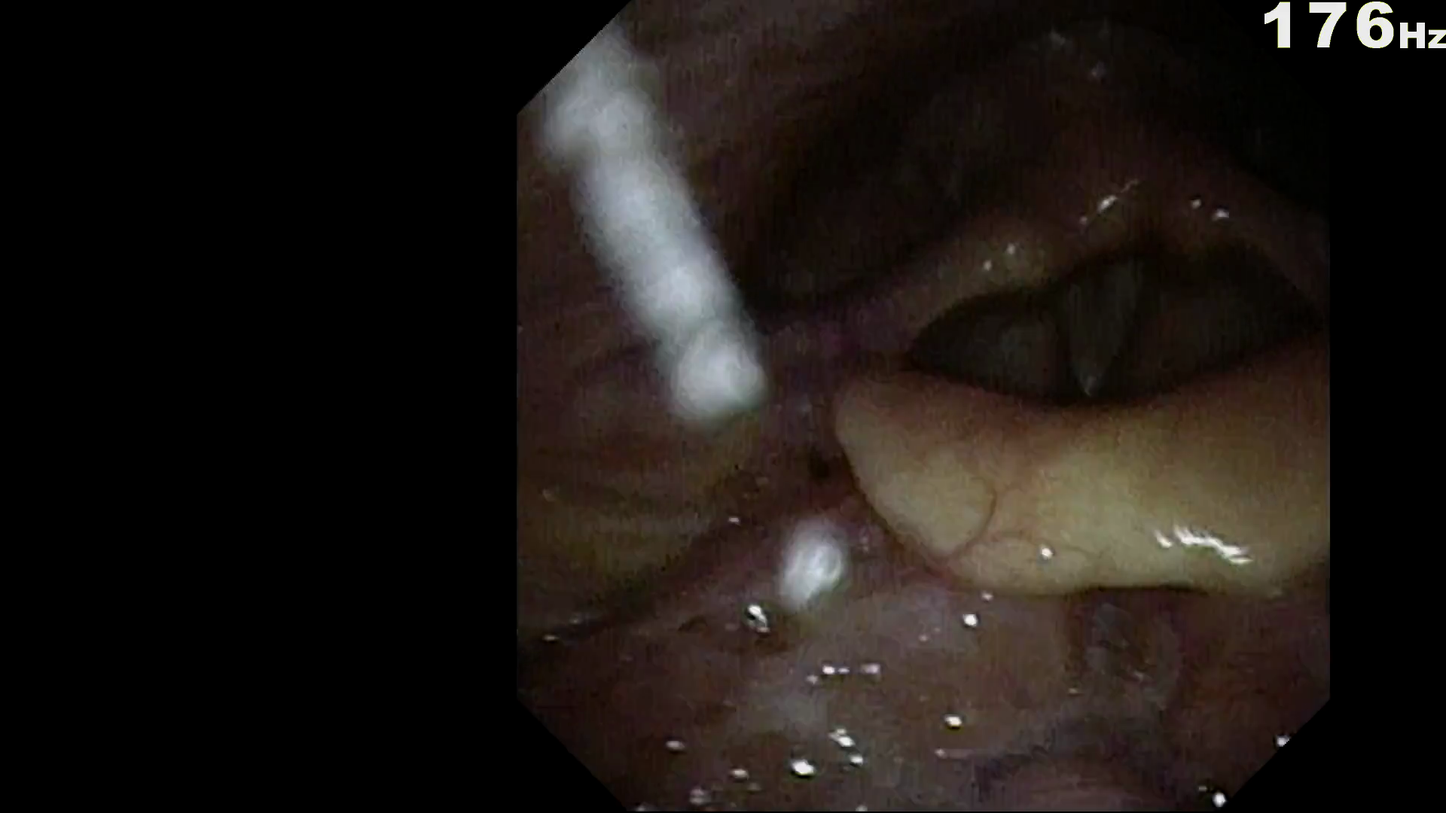epiglottis: (810, 382, 1313, 625)
trachea: (1017, 284, 1164, 438)
